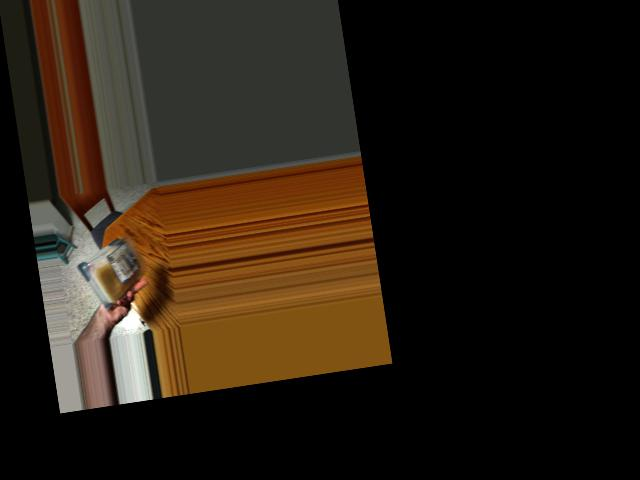cheese: (77, 231, 143, 310)
